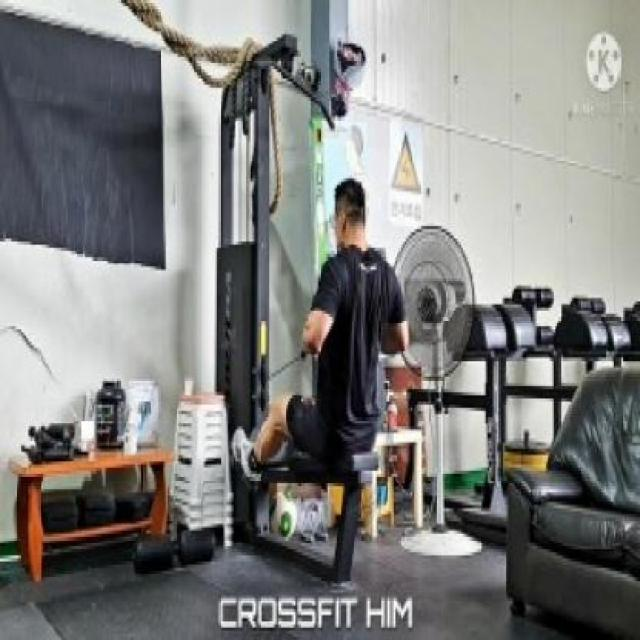Seated Cable Rows: (142, 63, 443, 611)
